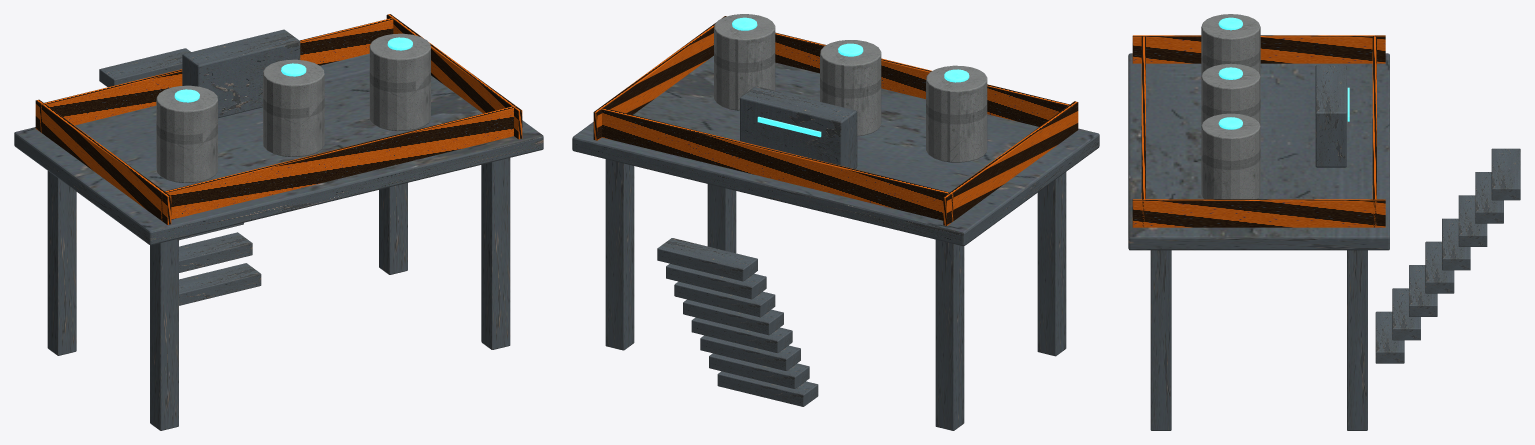
File: raised_ops_deck.glb
3 renders of one model, left to right at view 1: azimuth 30°, elevation 25°; view 2: azimuth 150°, elevation 25°; view 3: azimuth 270°, elevation 25°, orthographic. The views are drawn at different scales.
Visible parts, largest first — view 1: OpsDeck, OpsRailZ_2.65, OpsRailZ_-2.65, OpsConsole, OpsLeg_4.22.25, OpsTank_0, OpsTank_-2.7, OpsTank_2.7, OpsLeg_-4.22.25, OpsLeg_-4.2-2.25, OpsRailX_-4.45, OpsRailX_4.45 (+4 smaller); view 2: OpsDeck, OpsRailZ_-2.65, OpsConsole, OpsLeg_4.2-2.25, OpsLeg_-4.2-2.25, OpsTank_-2.7, OpsLeg_-4.22.25, OpsRailZ_2.65, OpsTank_2.7, OpsTank_0, OpsRailX_-4.45, OpsRailX_4.45 (+9 smaller); view 3: OpsDeck, OpsRailX_4.45, OpsRailX_-4.45, OpsTank_2.7, OpsLeg_4.22.25, OpsLeg_4.2-2.25, OpsConsole, OpsTank_-2.7, OpsTank_0, OpsStep_7, OpsStep_0, OpsStep_5 (+7 smaller).
Part boxes in pixels (x1=…): OpsDeck: x1=14, y1=53, x2=543, y2=245; OpsRailZ_2.65: x1=161, y1=105, x2=516, y2=221; OpsRailZ_-2.65: x1=40, y1=17, x2=395, y2=132; OpsConsole: x1=182, y1=29, x2=300, y2=118; OpsLeg_4.22.25: x1=481, y1=158, x2=510, y2=349; OpsTank_0: x1=263, y1=59, x2=324, y2=156; OpsTank_-2.7: x1=156, y1=85, x2=217, y2=182; OpsTank_2.7: x1=369, y1=33, x2=430, y2=130; OpsLeg_-4.22.25: x1=150, y1=238, x2=178, y2=430; OpsLeg_-4.2-2.25: x1=47, y1=171, x2=76, y2=355; OpsRailX_-4.45: x1=35, y1=99, x2=171, y2=224; OpsRailX_4.45: x1=386, y1=14, x2=522, y2=139; OpsDeck: x1=572, y1=56, x2=1099, y2=246; OpsRailZ_-2.65: x1=599, y1=108, x2=953, y2=221; OpsConsole: x1=740, y1=86, x2=857, y2=169; OpsLeg_4.2-2.25: x1=605, y1=159, x2=634, y2=350; OpsLeg_-4.2-2.25: x1=935, y1=239, x2=964, y2=430; OpsTank_-2.7: x1=926, y1=65, x2=987, y2=162; OpsLeg_-4.22.25: x1=1037, y1=172, x2=1066, y2=356; OpsRailZ_2.65: x1=775, y1=32, x2=1073, y2=126; OpsTank_2.7: x1=714, y1=14, x2=775, y2=110; OpsTank_0: x1=820, y1=40, x2=881, y2=136; OpsRailX_-4.45: x1=943, y1=101, x2=1078, y2=225; OpsRailX_4.45: x1=593, y1=16, x2=726, y2=140; OpsDeck: x1=1128, y1=53, x2=1389, y2=250; OpsRailX_4.45: x1=1132, y1=199, x2=1385, y2=227; OpsRailX_-4.45: x1=1132, y1=35, x2=1385, y2=63; OpsTank_2.7: x1=1201, y1=113, x2=1260, y2=199; OpsLeg_4.22.25: x1=1150, y1=250, x2=1171, y2=430; OpsLeg_4.2-2.25: x1=1347, y1=250, x2=1367, y2=430; OpsConsole: x1=1315, y1=65, x2=1346, y2=167; OpsTank_-2.7: x1=1201, y1=14, x2=1260, y2=76; OpsTank_0: x1=1201, y1=63, x2=1260, y2=125; OpsStep_7: x1=1491, y1=148, x2=1520, y2=200; OpsStep_0: x1=1375, y1=311, x2=1404, y2=363; OpsStep_5: x1=1458, y1=195, x2=1487, y2=246.
Size of the model in its own units: 10 by 7.02 by 8.99.
Materials: 5 (5 with a texture image).
